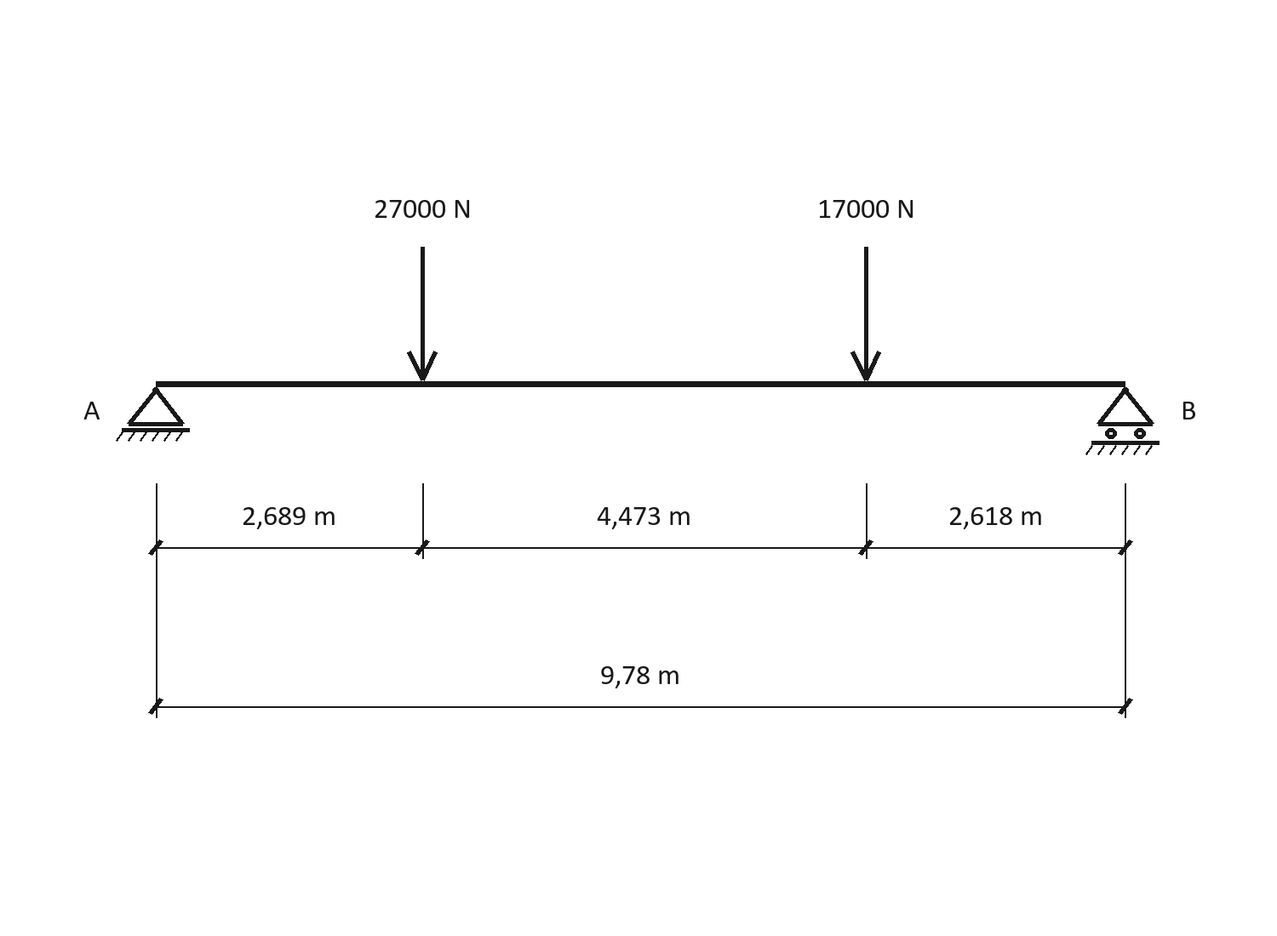pin_support: (116, 387, 190, 442)
point_load: (407, 247, 438, 381), (850, 247, 881, 381)
roller_support: (1085, 387, 1160, 455)
